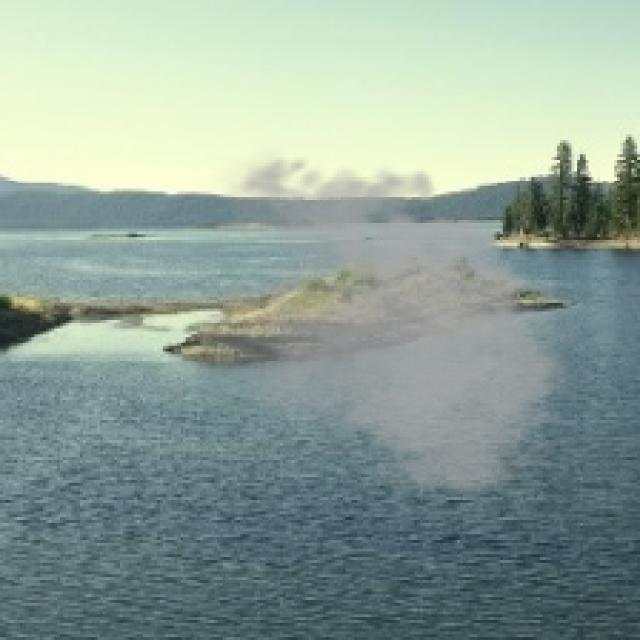smoke: (194, 146, 583, 503)
